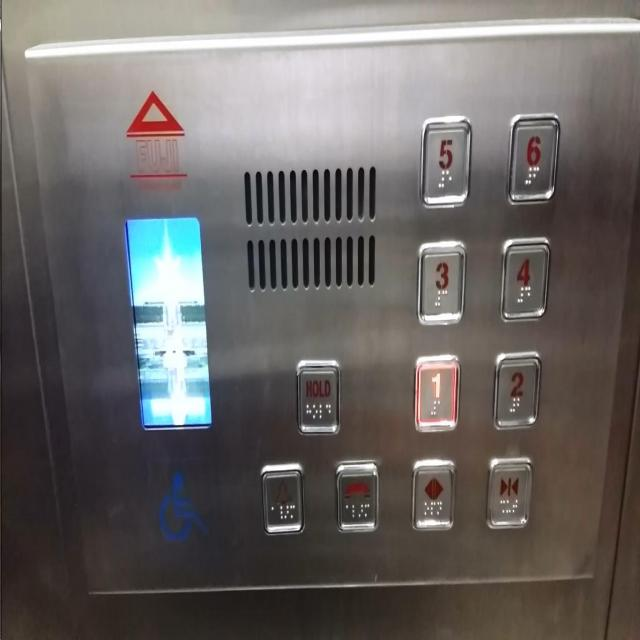1: (413, 351, 461, 435)
2: (490, 350, 542, 432)
3: (415, 241, 466, 328)
4: (499, 234, 550, 324)
5: (418, 115, 472, 211)
6: (505, 109, 560, 207)
CH: (145, 455, 208, 557)
alarm: (259, 462, 306, 534)
call: (333, 458, 380, 534)
close: (484, 456, 533, 531)
led: (122, 213, 214, 432)
open: (409, 457, 456, 532)
text_HOLD: (294, 358, 343, 438)
